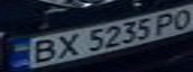2: (103, 22, 124, 50)
3: (121, 19, 142, 45)
5: (133, 16, 160, 42), (84, 26, 109, 53)
B: (21, 36, 63, 65)
O: (169, 7, 193, 30)
P: (151, 11, 181, 36)
X: (48, 30, 84, 60)
